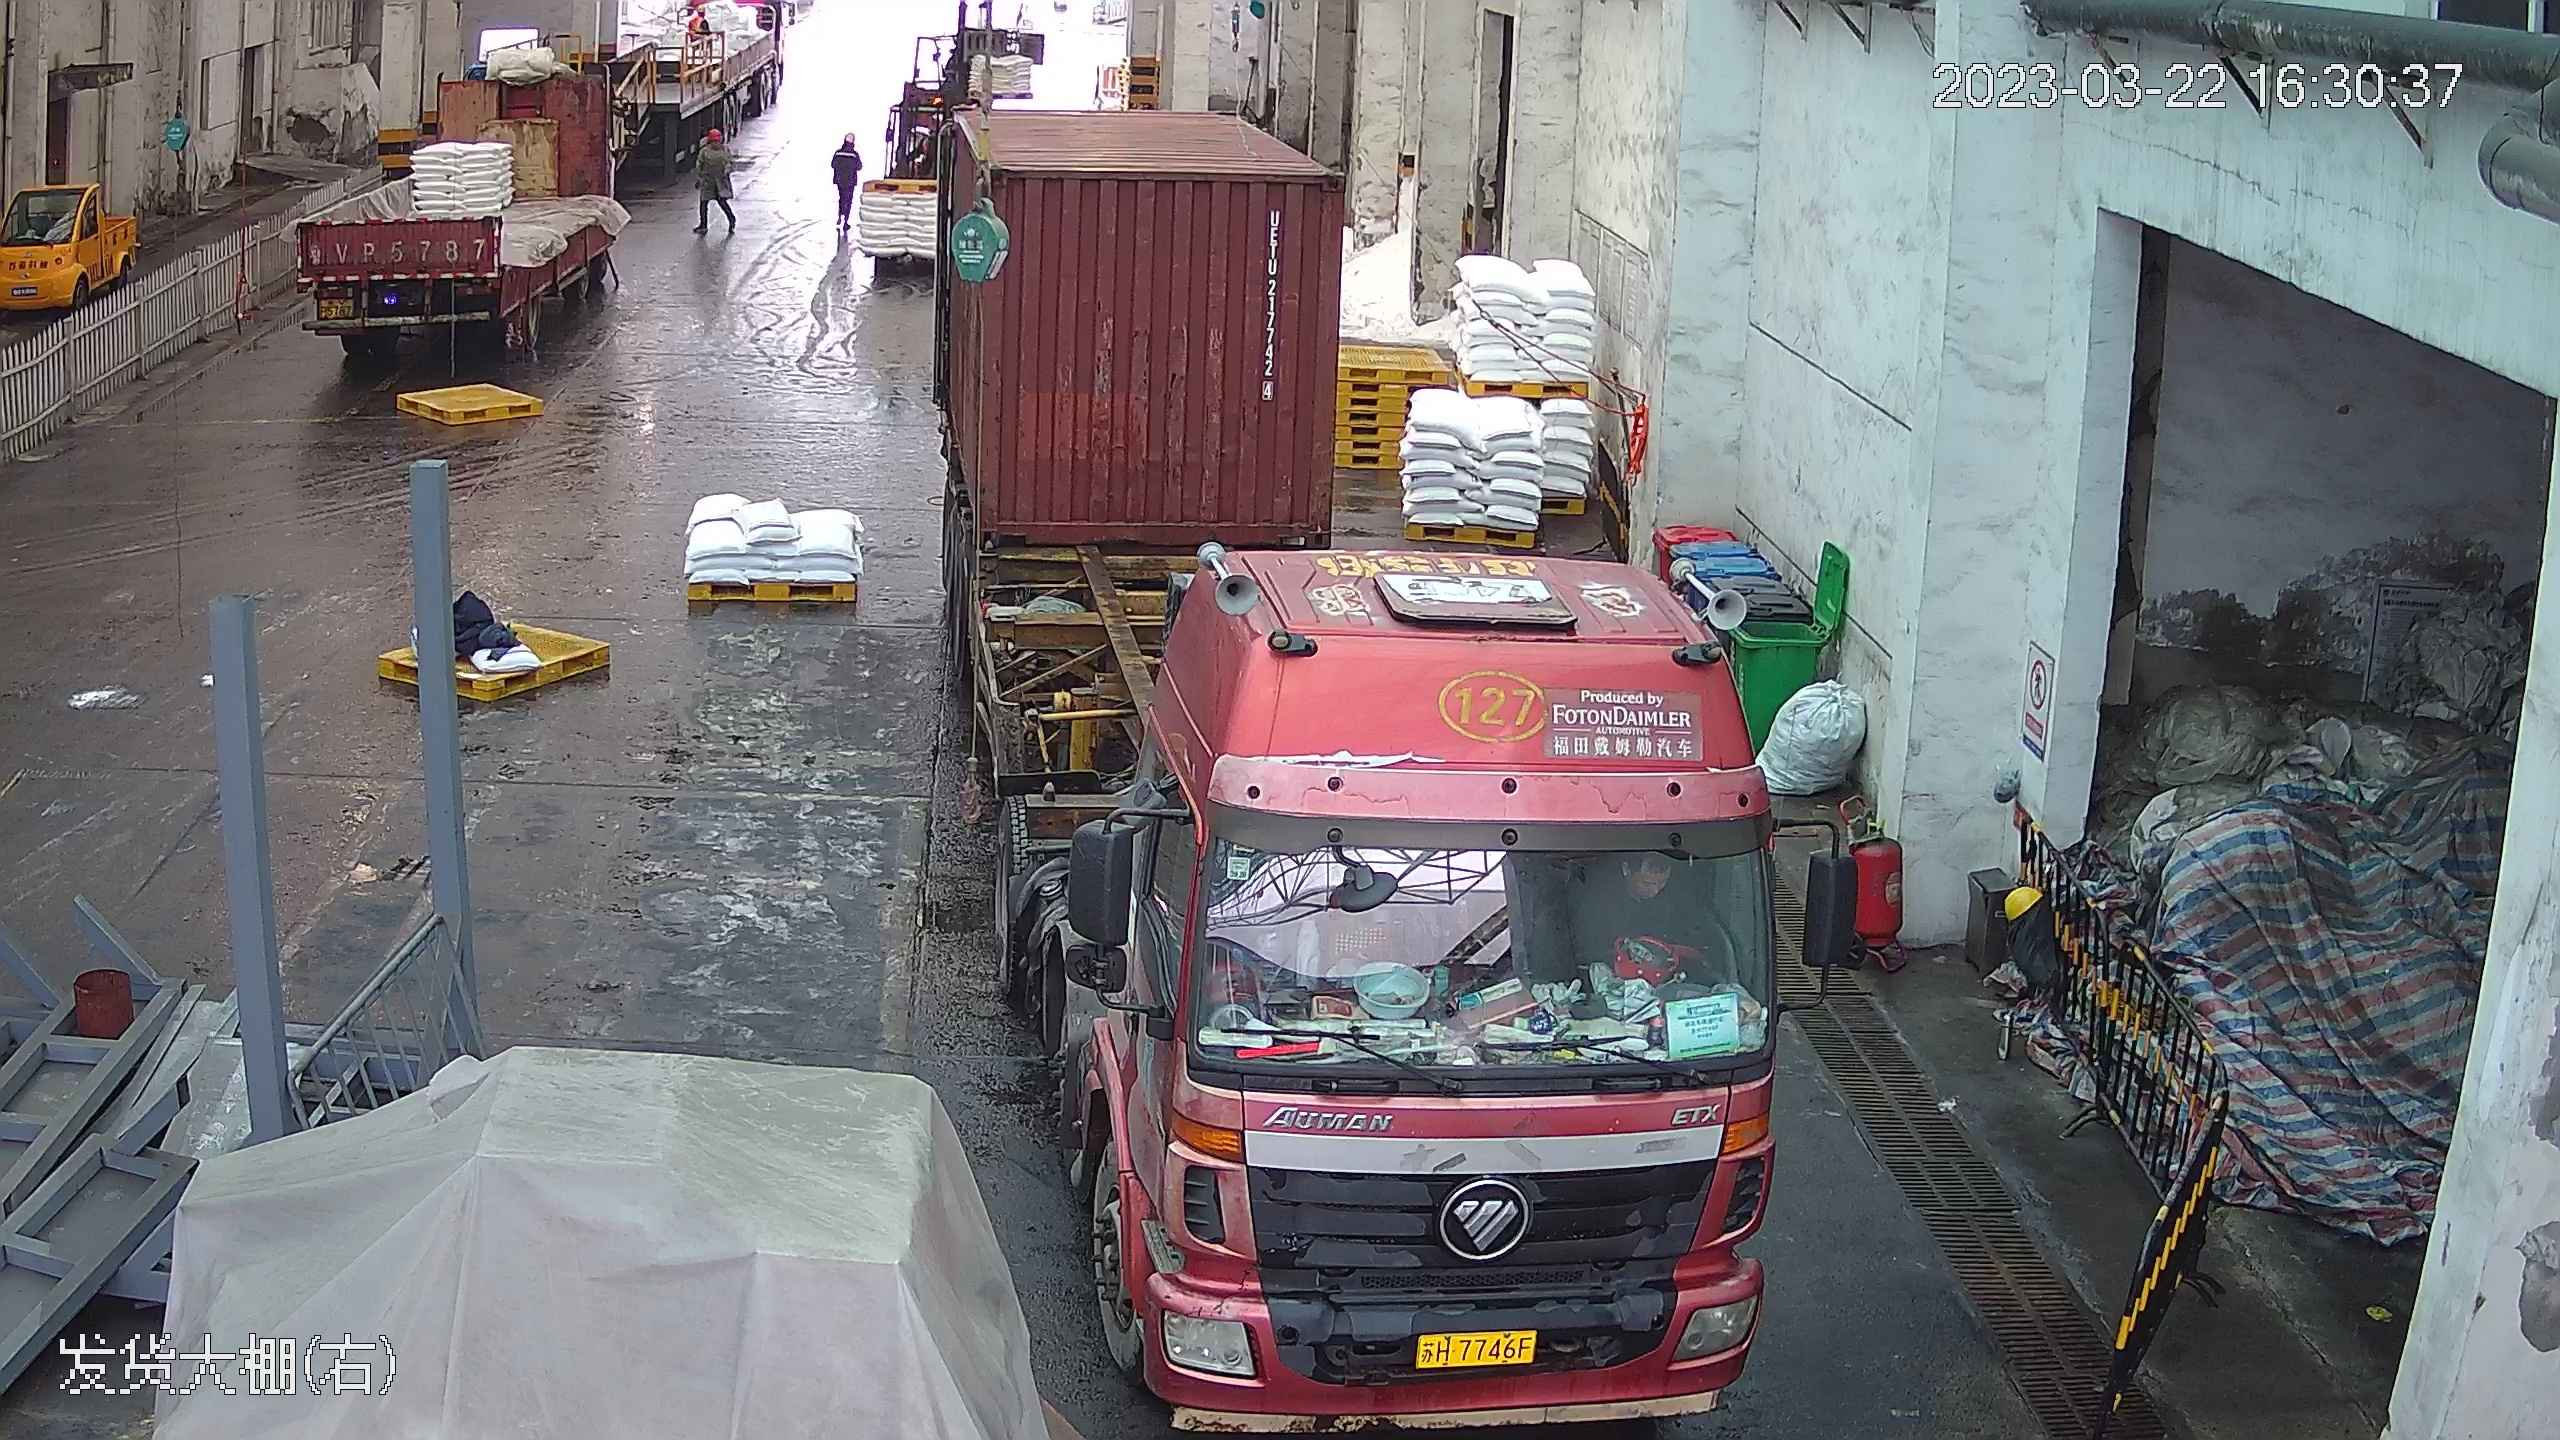head: (693, 132, 729, 170), (831, 125, 863, 164)
helmet: (708, 129, 722, 142), (845, 132, 856, 143)
people: (691, 128, 737, 240), (829, 124, 865, 232)
truck: (919, 1, 1798, 1430), (261, 14, 634, 391)
